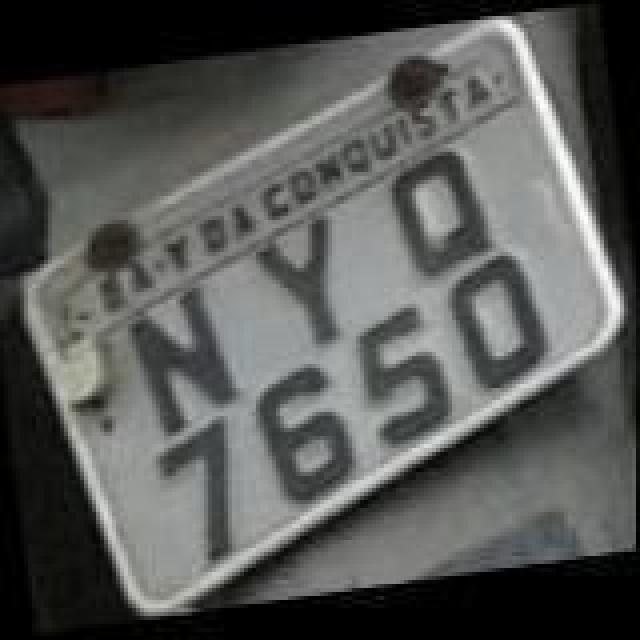5: (348, 300, 464, 452)
6: (250, 354, 370, 510)
7: (144, 408, 252, 576)
N: (128, 282, 244, 438)
O: (442, 242, 562, 398)
Q: (384, 140, 500, 284)
Y: (246, 208, 350, 360)
